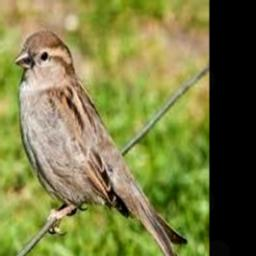Sparrow: (13, 31, 187, 256)
